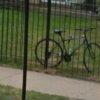Bicycle: (31, 23, 98, 89)
